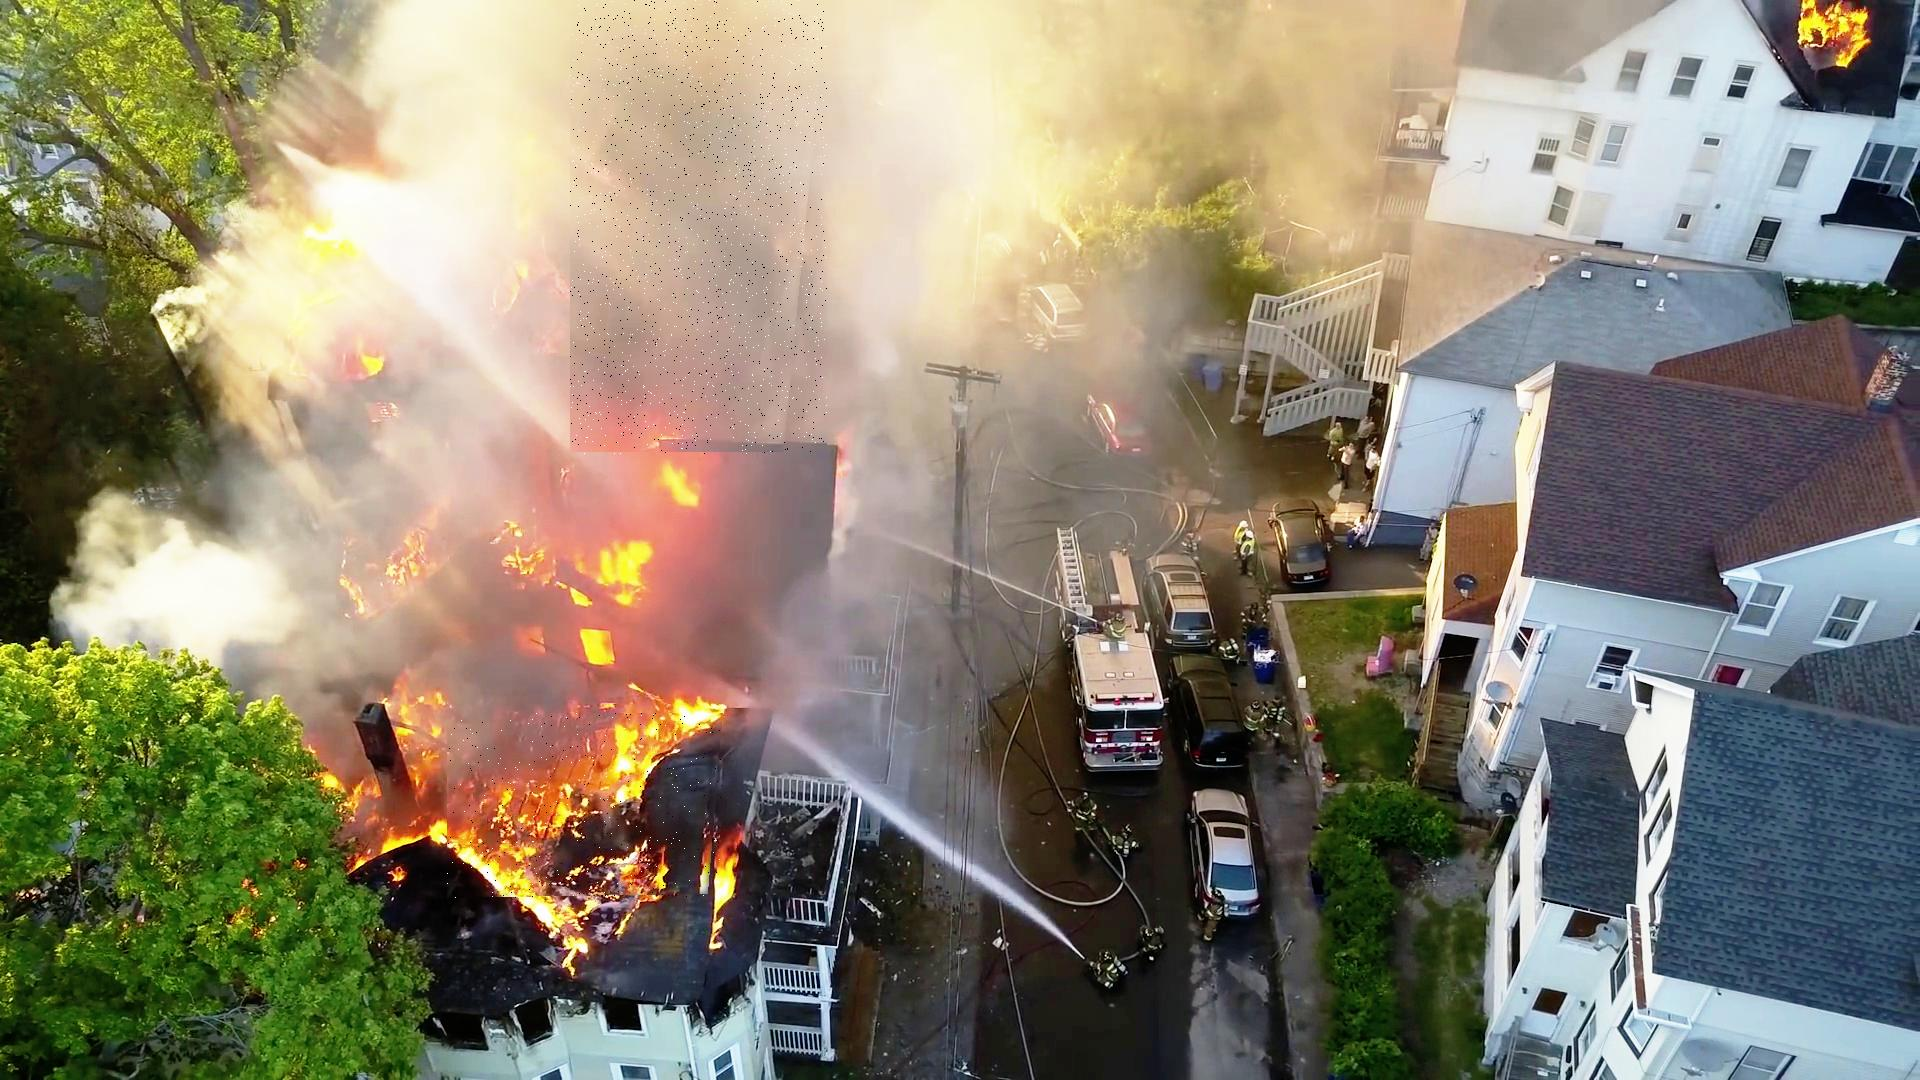fire: (447, 713, 723, 898)
smoke: (570, 1, 827, 455)
